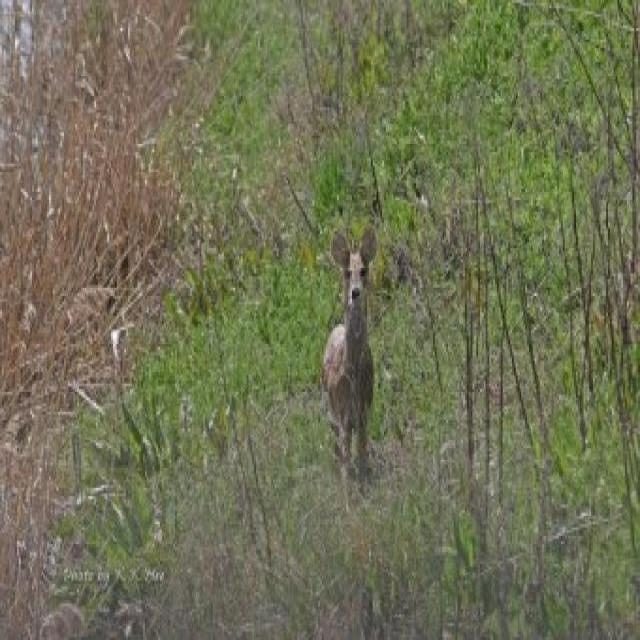deer: (308, 213, 399, 515)
